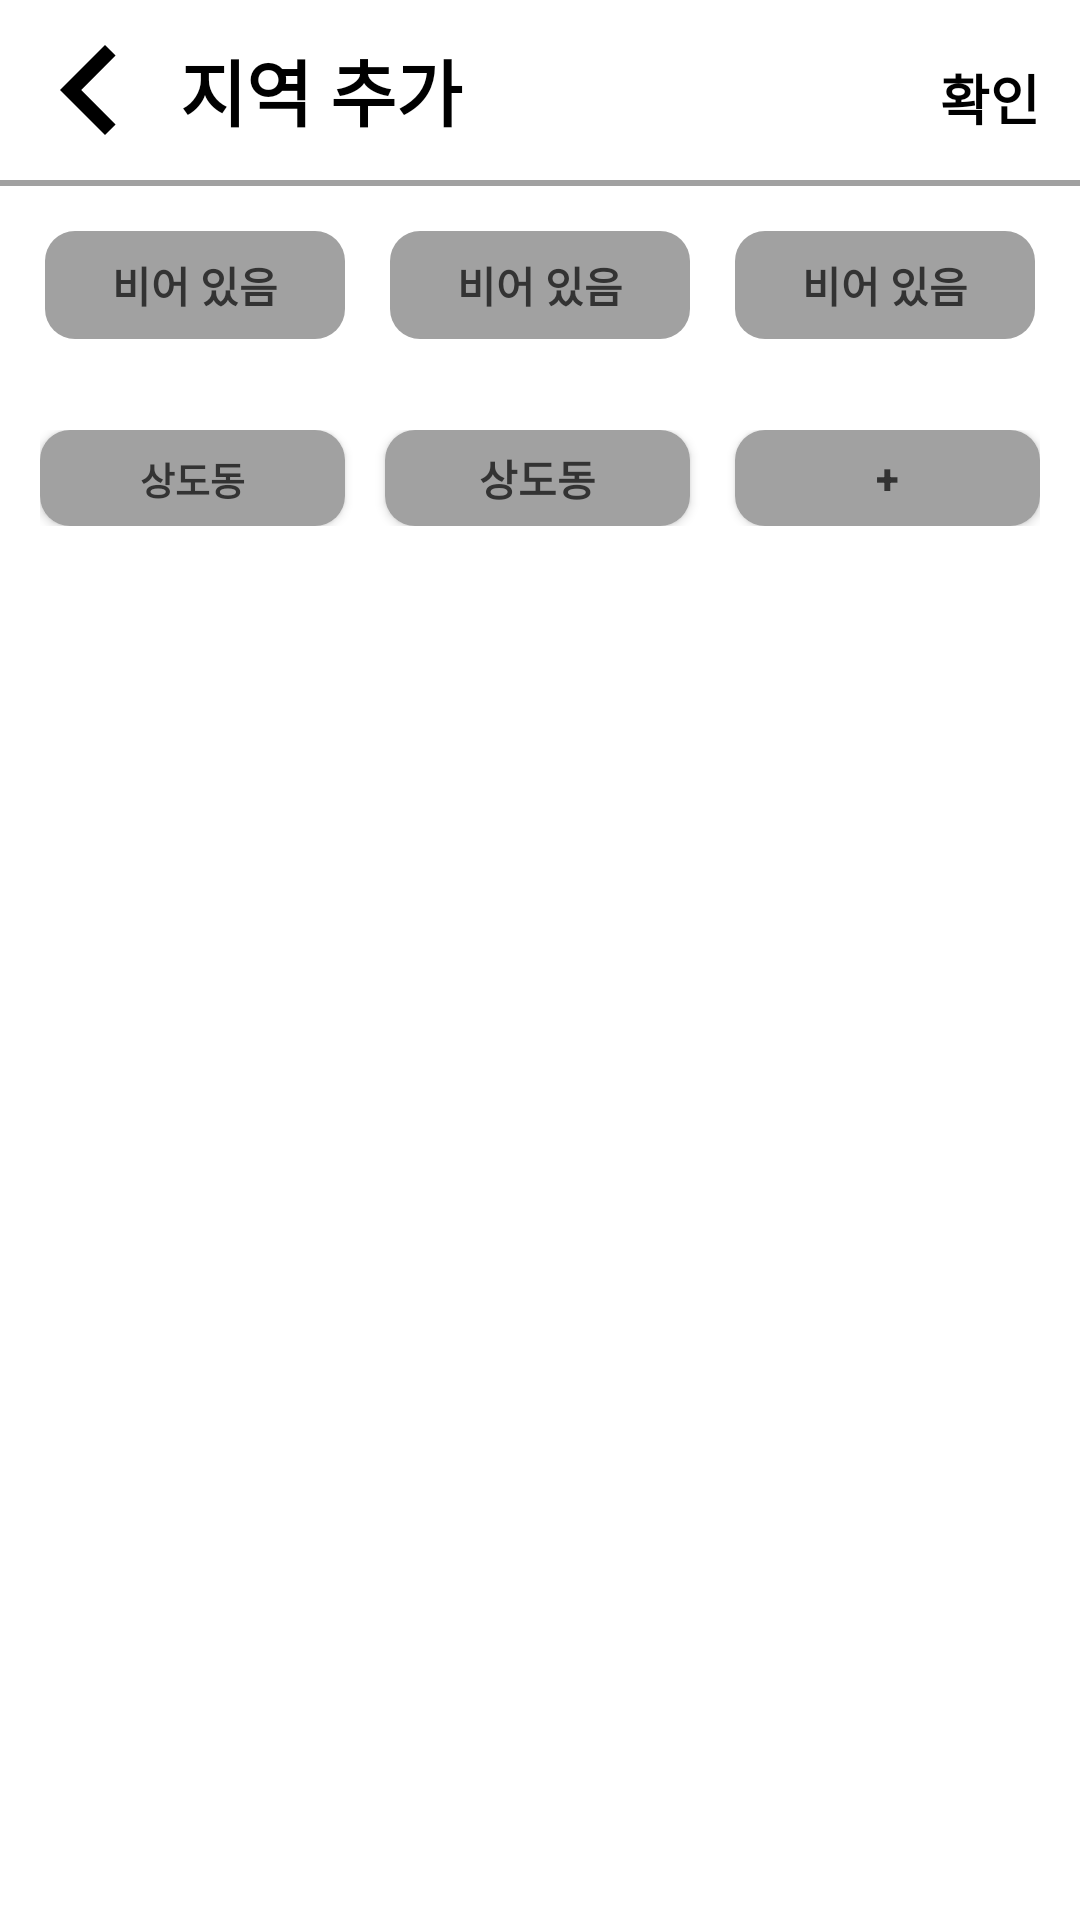

Point at icon controls on the screen. Image size 1080w x 1920h, points as (x=x, y=y).
chevron left: (x=88, y=90)
